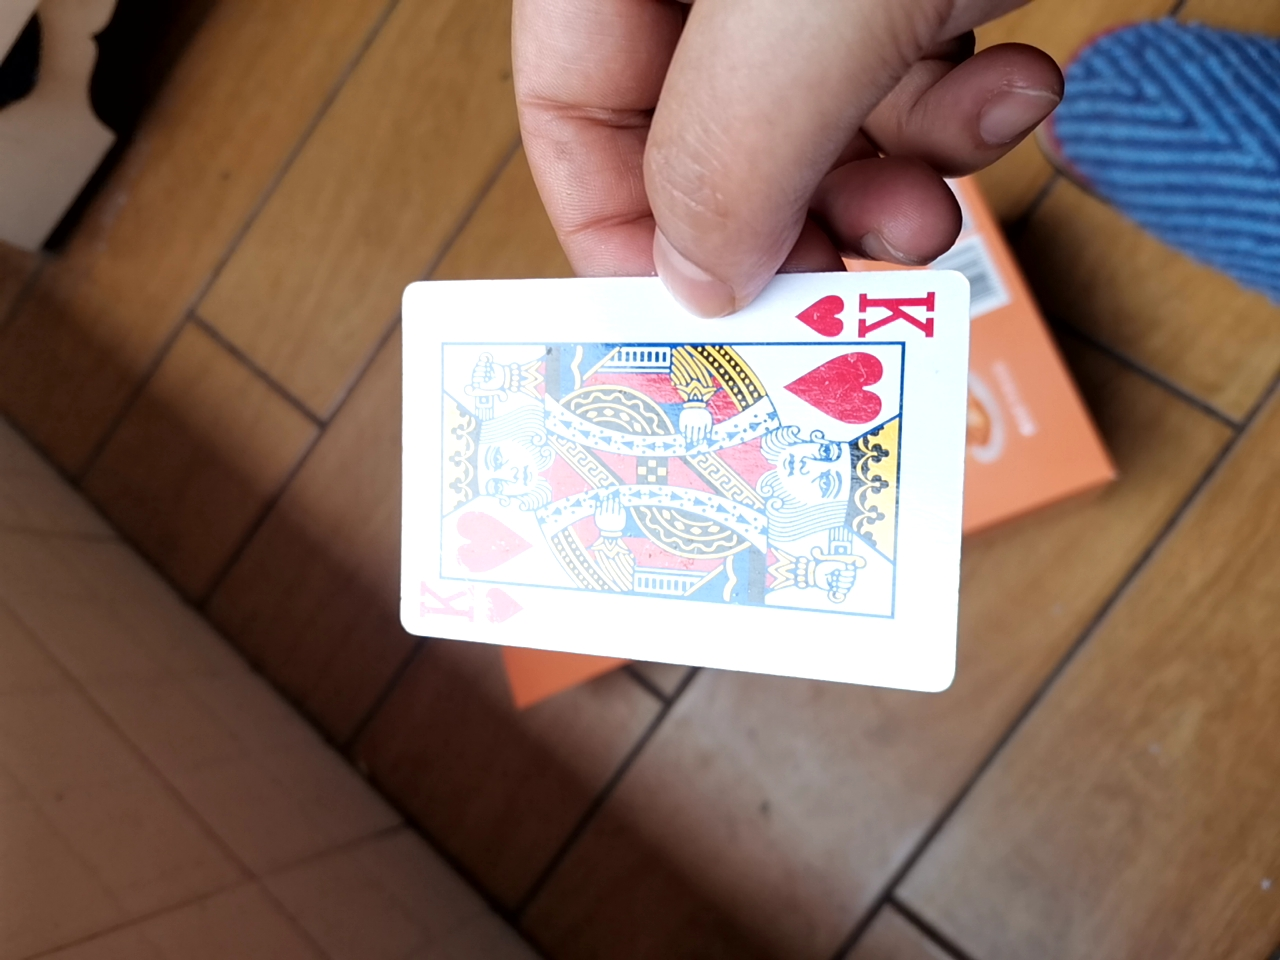hx k: (359, 248, 994, 690)
